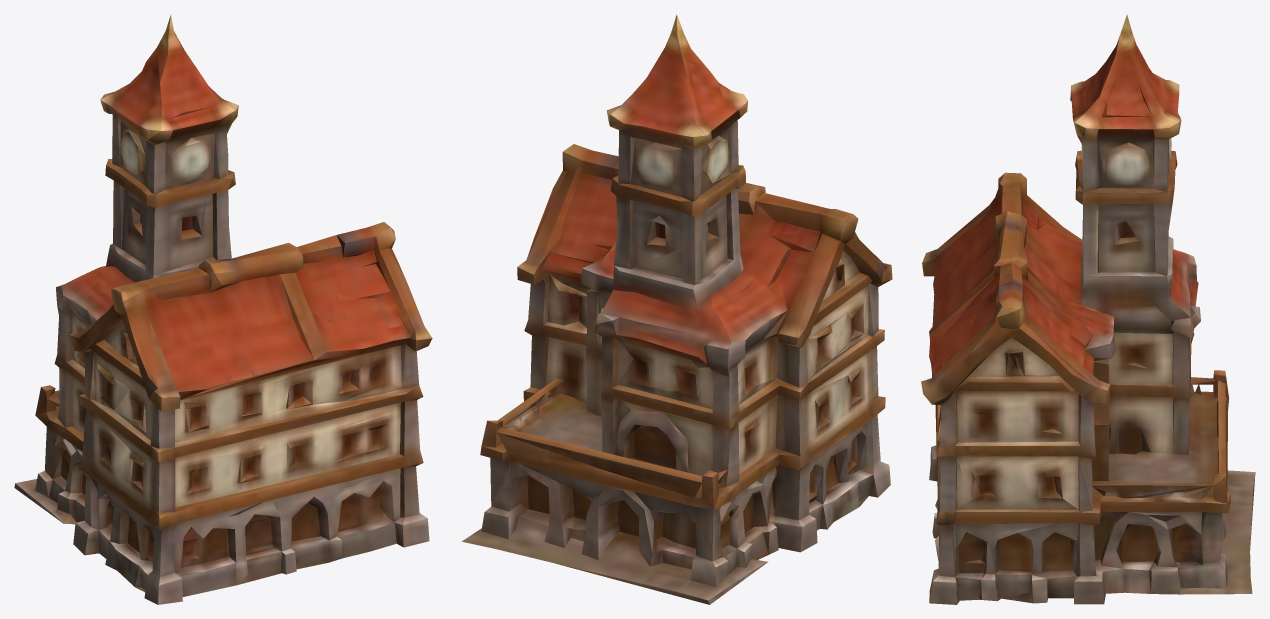
File: village3.lod2.glb
3 views of the same model, side by side, from view 1: azimuth 30°, elevation 25°; view 2: azimuth 150°, elevation 25°; view 3: azimuth 270°, elevation 25° (orthographic). The views are drawn at different scales.
Visible parts, largest first — view 1: village3.lod2_uv; view 2: village3.lod2_uv; view 3: village3.lod2_uv.
Boxes of the visible parts, x1,y1,x2,y2 form: village3.lod2_uv: [14, 15, 432, 604]; village3.lod2_uv: [462, 14, 892, 604]; village3.lod2_uv: [921, 14, 1255, 604].
Bounding box in the file's own units: 1.11 × 1.9 × 1.13.
1 material, 1 textured.
